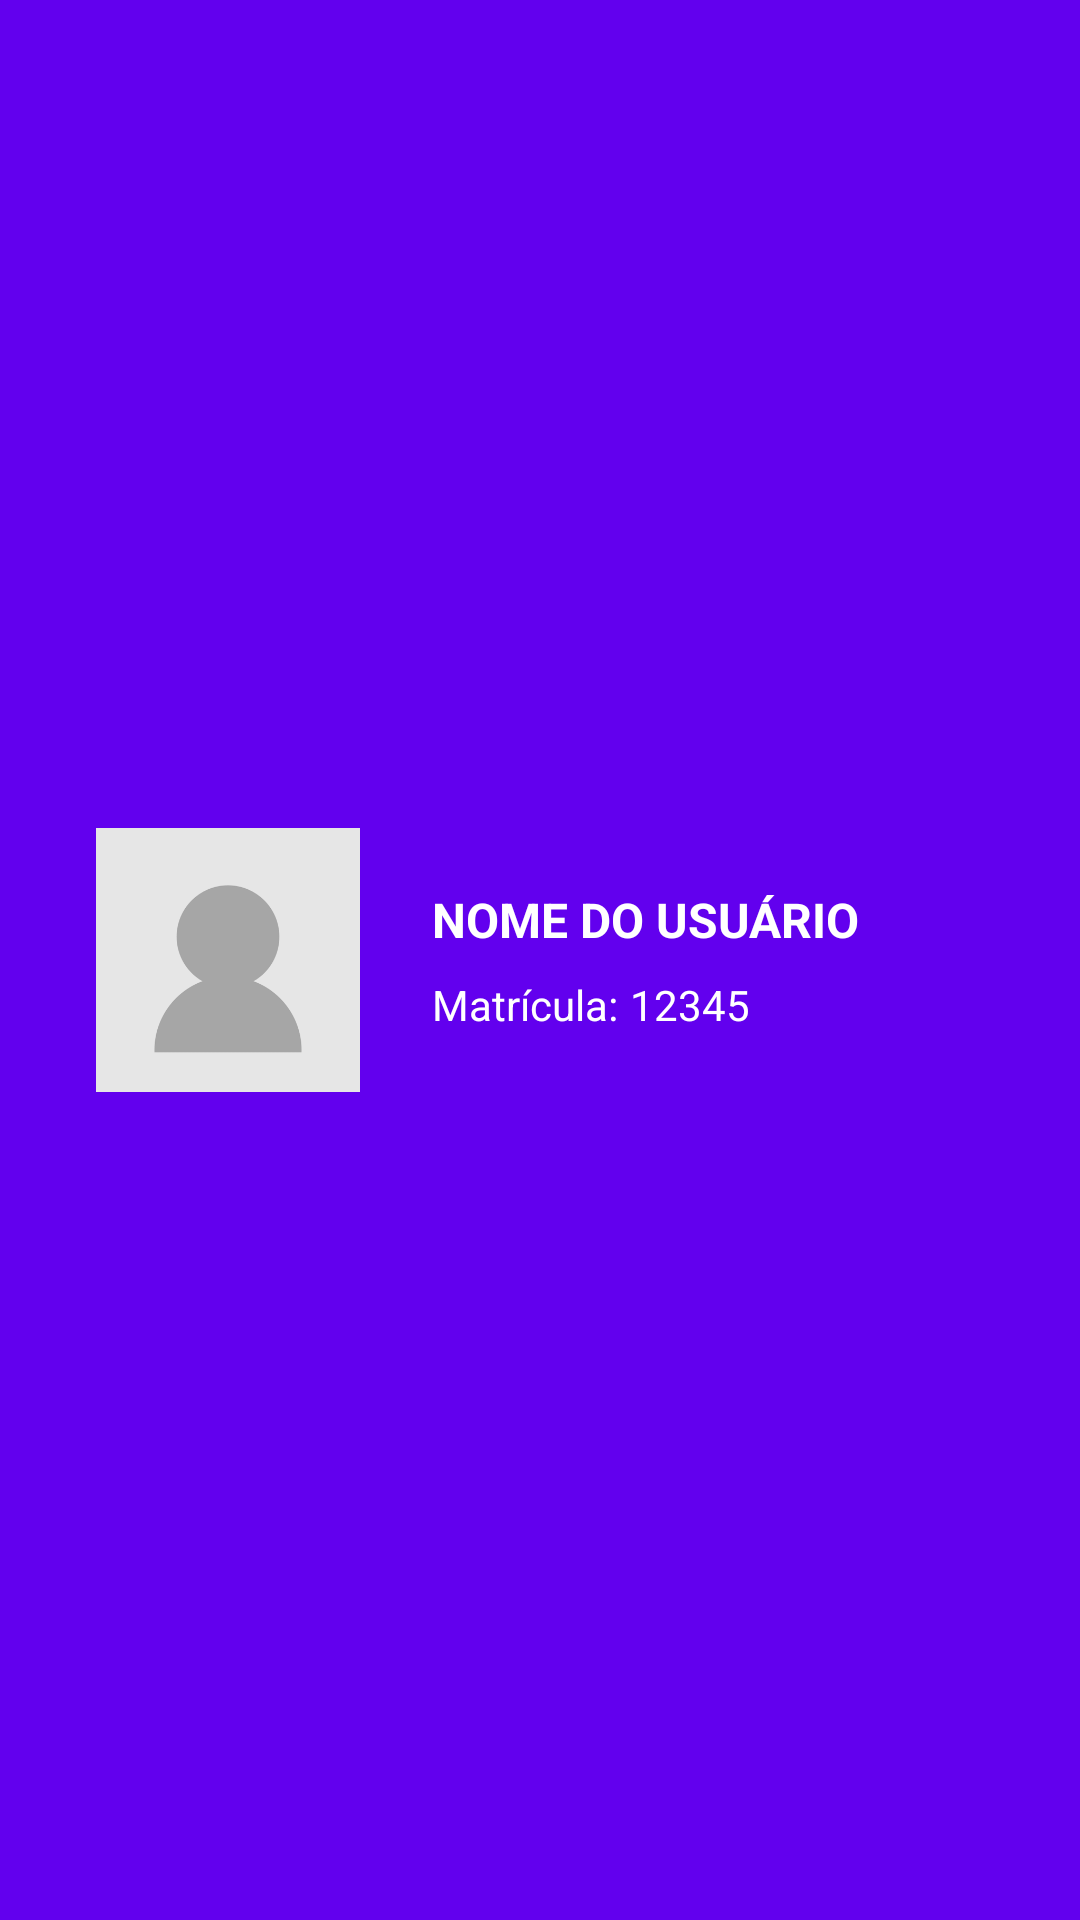

Screen size 1080 × 1920. Icon name, then its box in pixels as (x1, y1, x2, y2):
Foto do usuário: (96, 828, 360, 1092)
